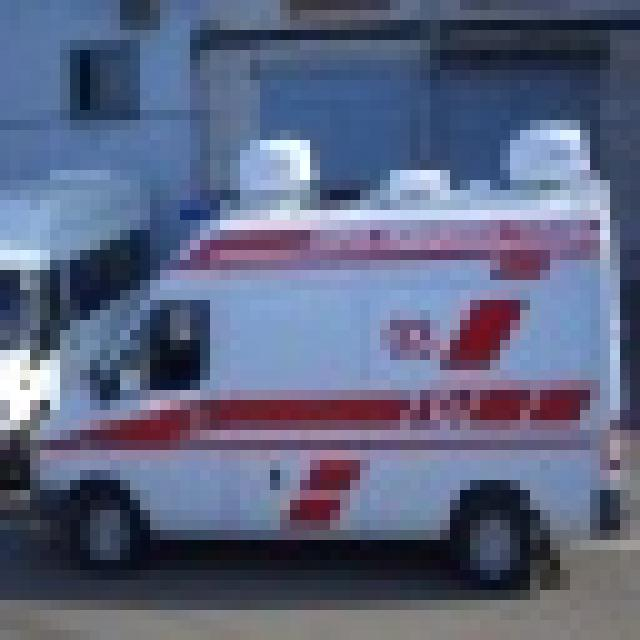Ambulance: (20, 120, 620, 590)
